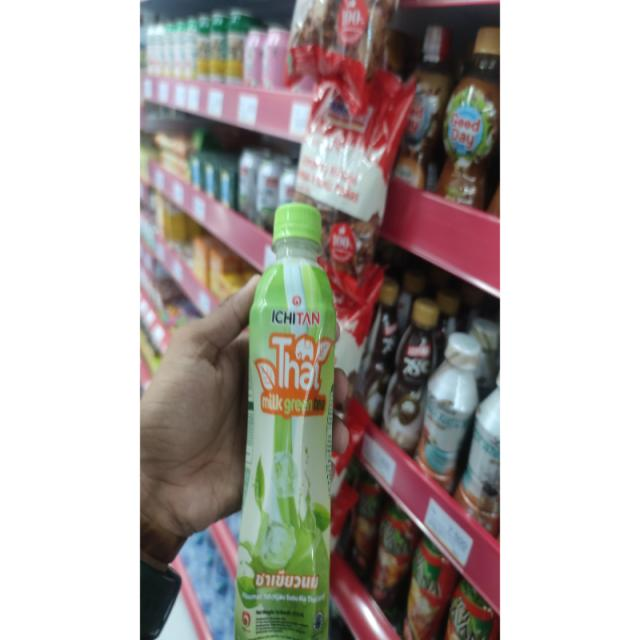botol: (206, 181, 392, 640)
